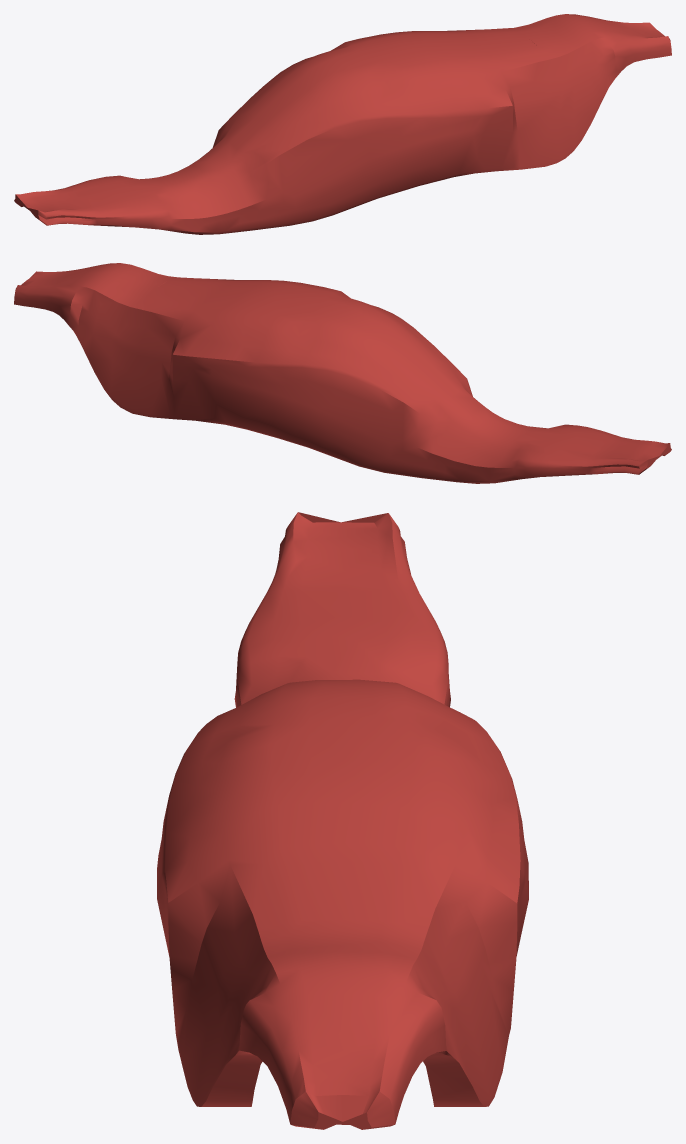
The model's file is adventure_5_lod2.glb.
The picture shows the model from 3 angles, top to bottom: view 1: azimuth 30°, elevation 25°; view 2: azimuth 150°, elevation 25°; view 3: azimuth 270°, elevation 25°; orthographic projection. The views are drawn at different scales.
Parts seen in each view (by area): view 1: adventure_5_lod2; view 2: adventure_5_lod2; view 3: adventure_5_lod2.
Part boxes in pixels (box(x1,y1,x2,y2)): adventure_5_lod2: box(14, 14, 671, 234); adventure_5_lod2: box(14, 263, 671, 483); adventure_5_lod2: box(157, 512, 528, 1129).
Bounding box in the file's own units: 1.57 × 0.287 × 0.3977.
